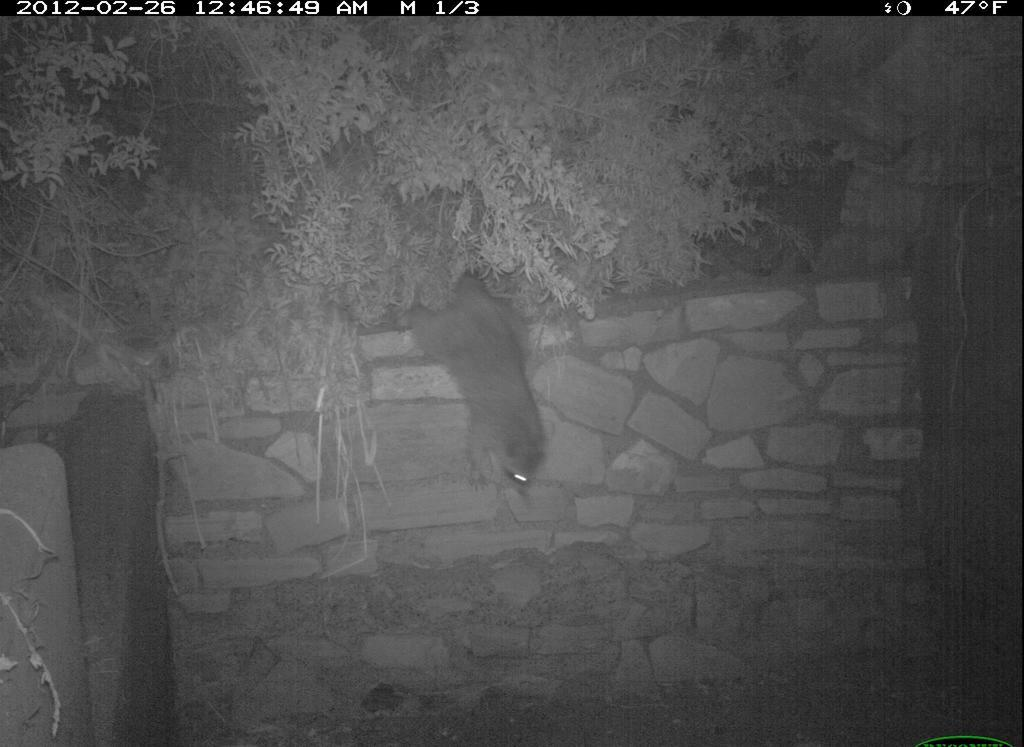raccoon: (402, 260, 561, 505)
